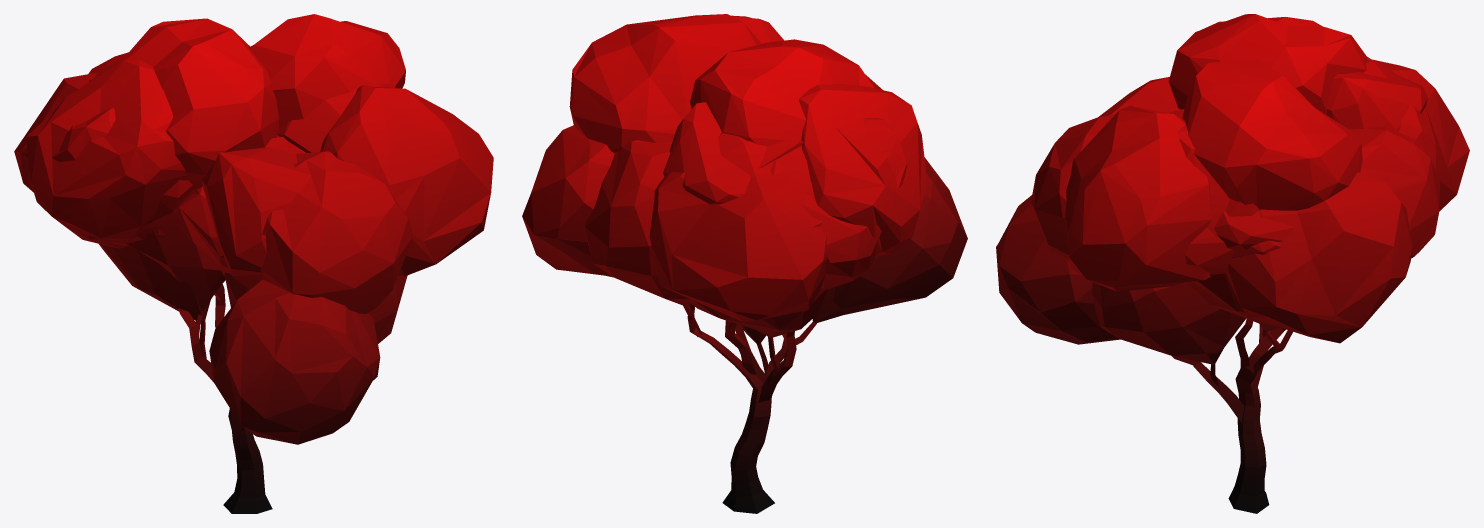
The model's file is TreeMaple02.fbx.
The picture shows the model from 3 angles, left to right: view 1: azimuth 30°, elevation 25°; view 2: azimuth 150°, elevation 25°; view 3: azimuth 270°, elevation 25°; orthographic projection. The views are drawn at different scales.
Visible parts, largest first — view 1: TreeMaple02_LOD0; view 2: TreeMaple02_LOD0; view 3: TreeMaple02_LOD0.
Part boxes in pixels (x1,y1,x2,y2): TreeMaple02_LOD0: [14, 14, 493, 513]; TreeMaple02_LOD0: [522, 14, 967, 513]; TreeMaple02_LOD0: [996, 14, 1469, 513].
Size of what is drawn, in the model's own units: 741 by 912 by 845.
